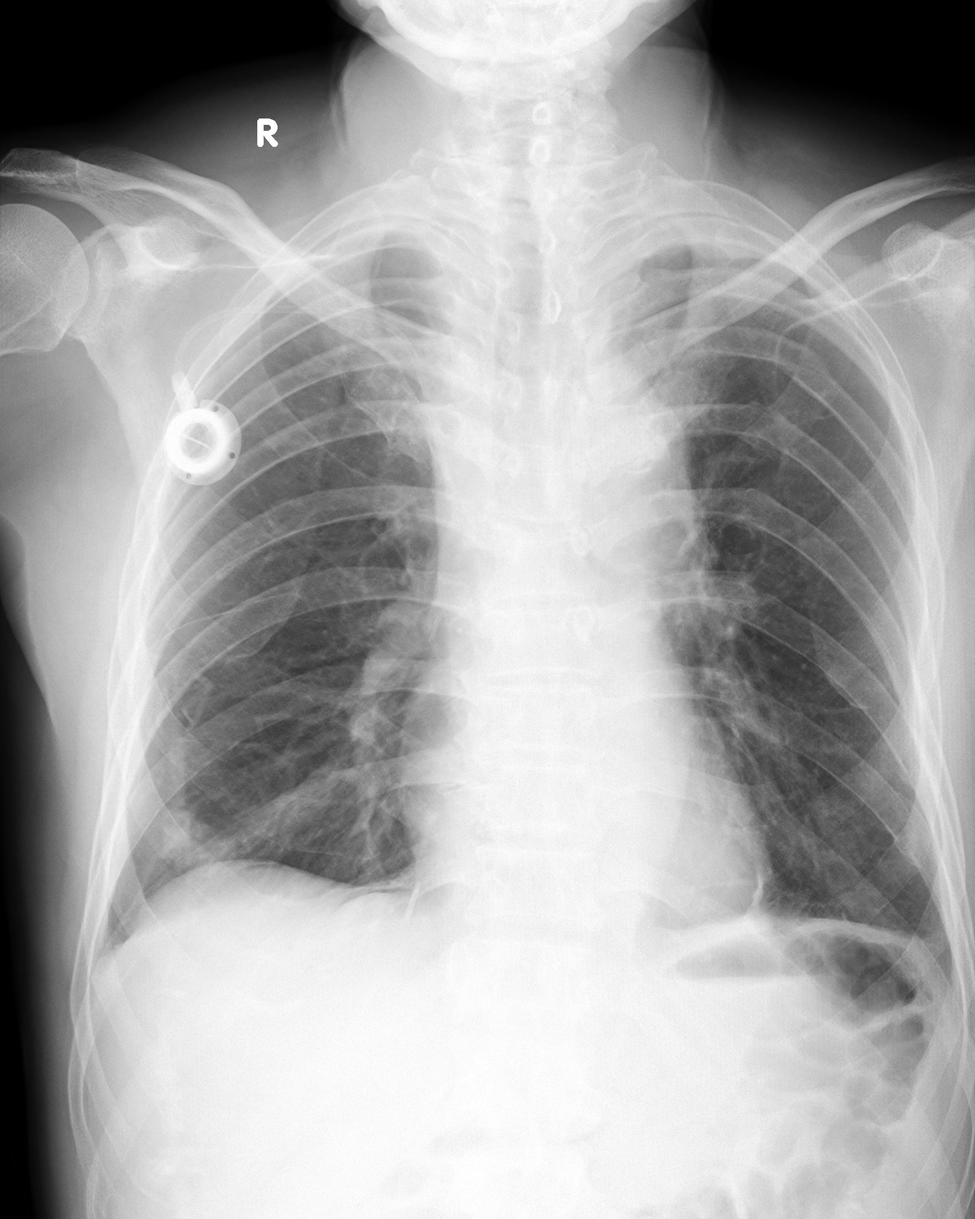Aortic enlargement: (544, 366, 694, 570)
Pleural thickening: (93, 919, 132, 981)
Pulmonary fibrosis: (131, 800, 249, 866)
